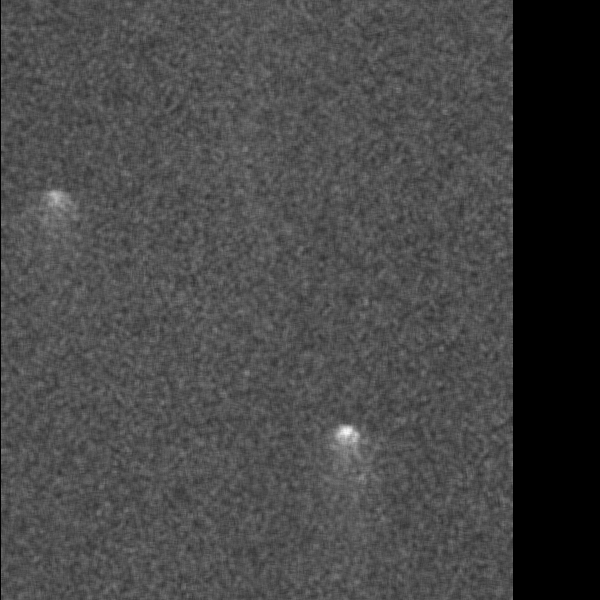spark: (55, 427, 105, 488), (82, 568, 147, 597), (313, 548, 350, 580)
